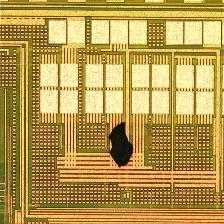PARTICLE: (108, 121, 137, 171)
